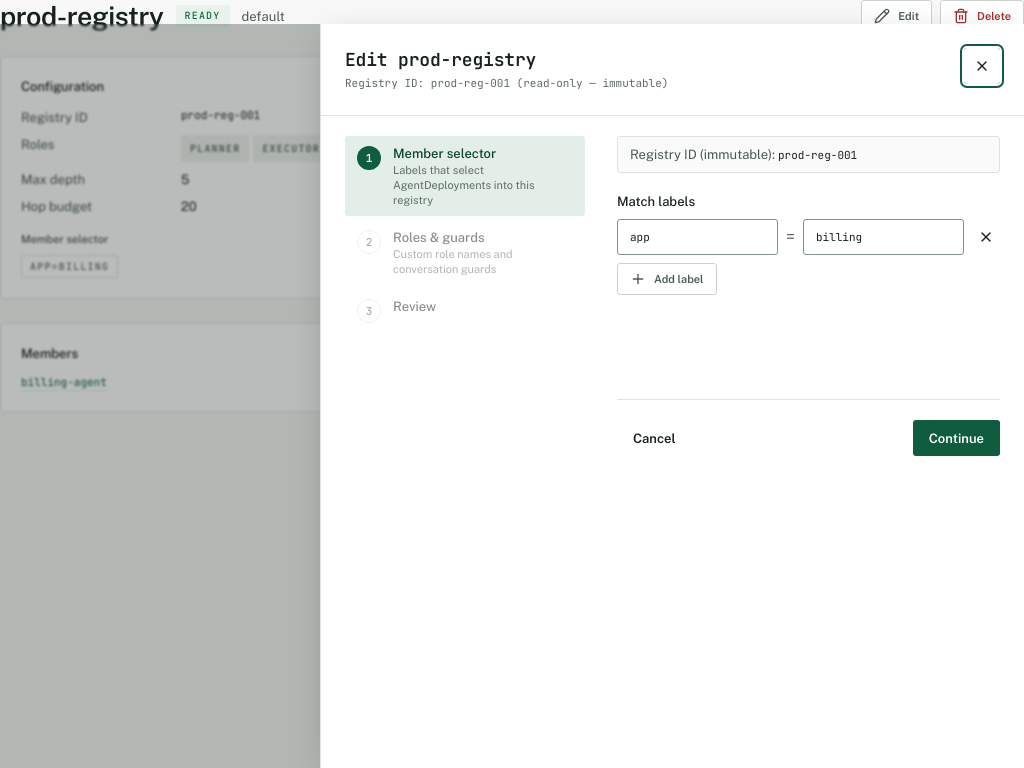
it: AgentRegistryDetailPage › NO egress/allowlist field in edit wizard
Expected: the element with test id "registry-id-readonly" is shown, x1=617 y1=136 x2=1000 y2=173
# Navigate through all wizard steps (wizard uses "Continue" not "Next")
Step 1. Click the button "Continue" → click(956, 438), box x1=913 y1=420 x2=1000 y2=456
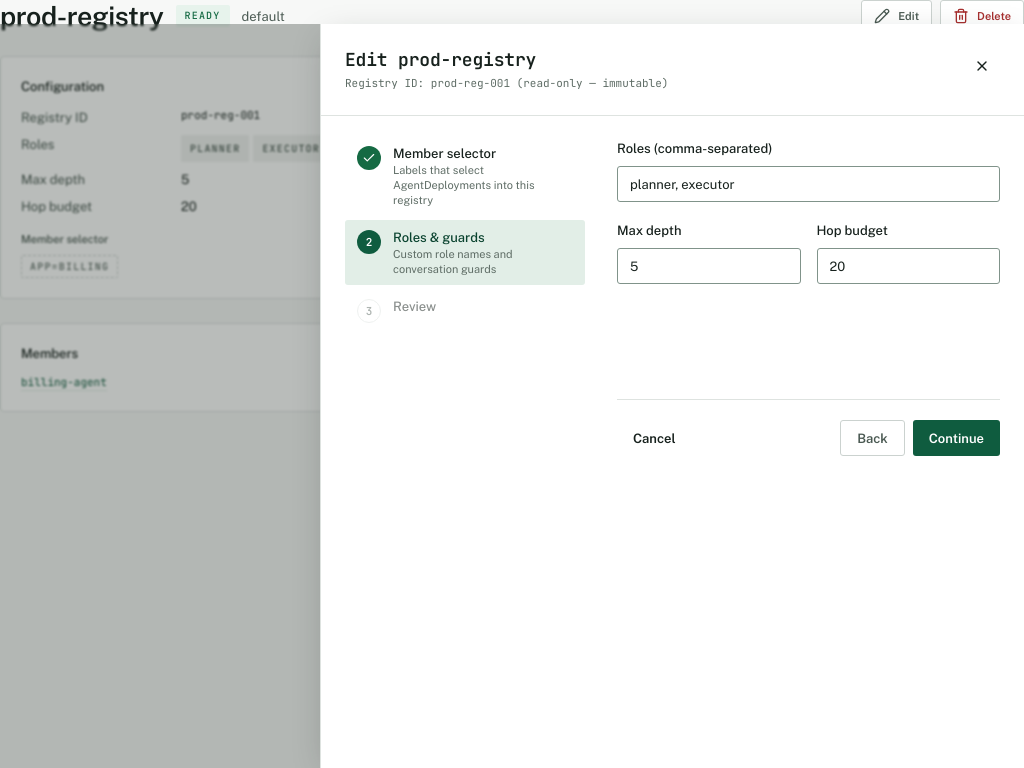
Result: the field with test id "edit-roles" is shown at x1=617 y1=166 x2=1000 y2=202
Step 2. Click the button "Continue" → click(956, 438), box x1=913 y1=420 x2=1000 y2=456
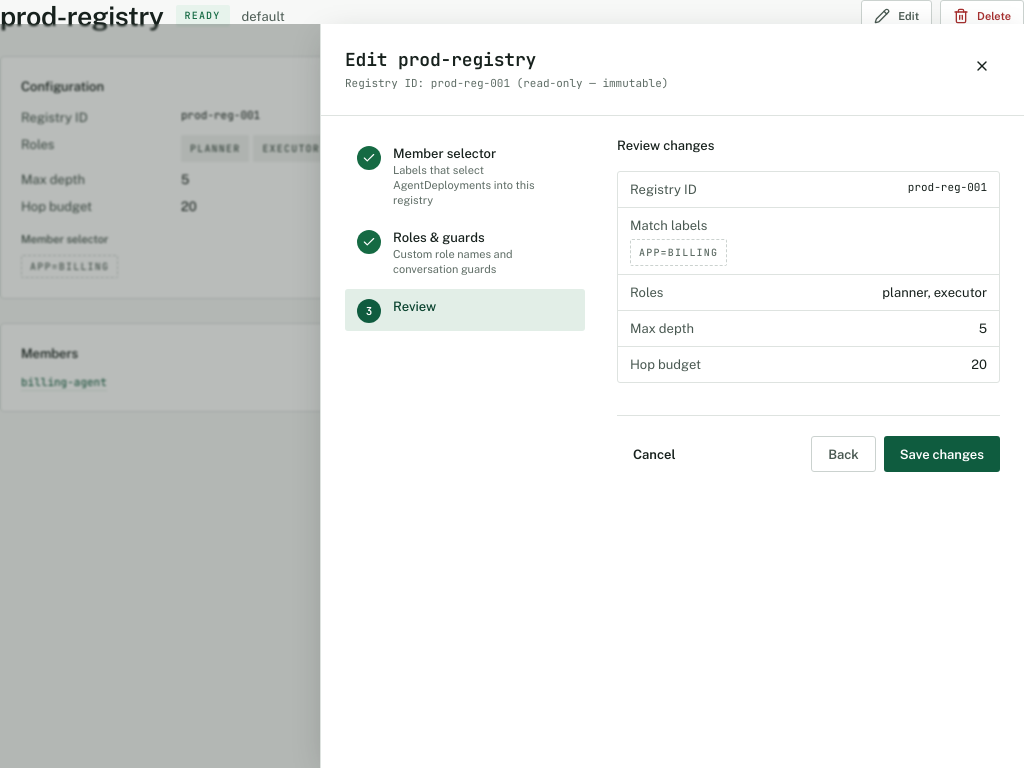
Result: the element with test id "registry-edit-review" is shown at x1=617 y1=136 x2=1000 y2=383
